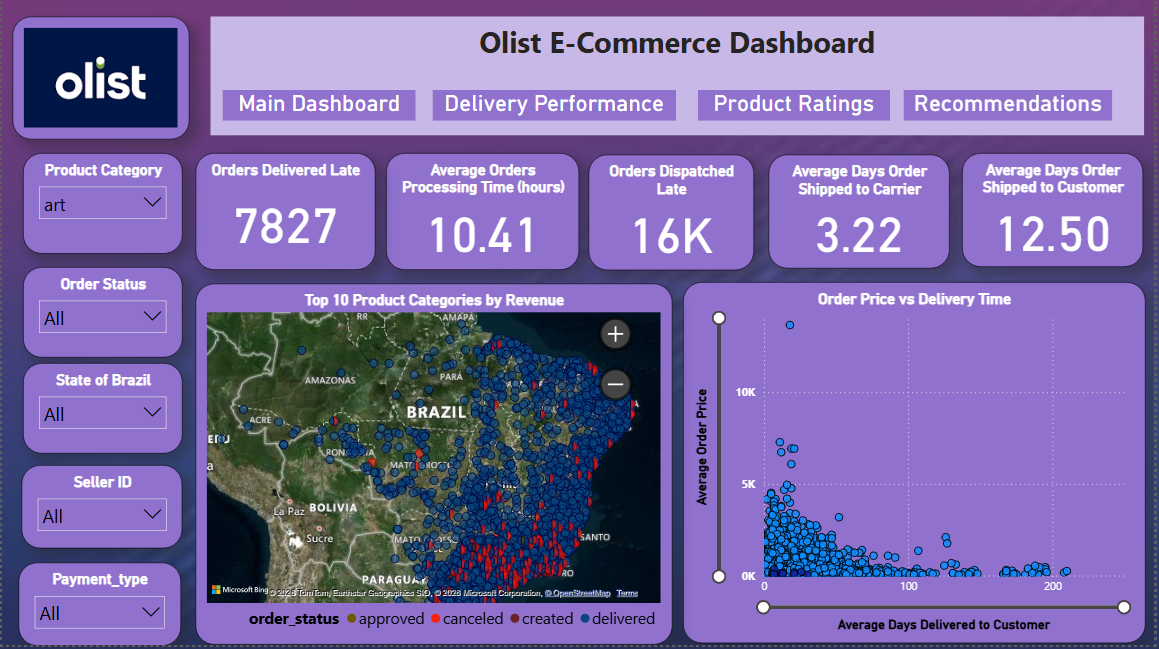

This screenshot's page, from the dashboard's own definition file:
{"tool":"powerbi","page":{"name":"page 2","canvas":[1280,720],"ordinal":1},"visuals":[{"type":"card","title":"Average Orders Processing Time  (hours)","fields":{"Values":["Avg(olist_orders.Processing_Time_Hours)"]},"box":[425.9,174,214.6,130.1],"z":0},{"type":"card","title":"Orders Delivered Late","fields":{"Values":["olist_orders.Late Order"]},"box":[214.6,174,200,130.1],"z":1000},{"type":"slicer","title":"Product Category","fields":{"Values":["product_category_name_translation.product_category_name_english"]},"box":[22.8,174,177.2,112.2],"z":2000},{"type":"slicer","title":"Order Status","fields":{"Values":["olist_orders.order_status"]},"box":[22.8,300.8,177.2,100.8],"z":3000},{"type":"slicer","title":"State of Brazil","fields":{"Values":["customer_olist.customer_state"]},"box":[22.8,406.4,177.2,100.8],"z":4000},{"type":"slicer","title":"Seller ID","fields":{"Values":["olist_sellers.seller_id"]},"box":[21.1,520.2,178.8,92.7],"z":5000},{"type":"slicer","title":"Payment_type","fields":{"Values":["olist_order_payments.payment_type"]},"box":[17.9,627.5,180.5,92.7],"z":6000},{"type":"card","title":"Orders Dispatched Late","fields":{"Values":["Sum(olist_orders.Order_Dispatched Late)"]},"box":[651.9,175.6,183.7,128.4],"z":7000},{"type":"card","title":"Average Days Order Shipped to Carrier","fields":{"Values":["olist_orders.Avg_Days_Shipping_Carrier"]},"box":[851.9,175.6,201.6,126.8],"z":8000},{"type":"scatterChart","title":"Order Price vs Delivery Time","fields":{"Category":["olist_orders.order_id"],"X":["Sum(olist_orders.Delivery_Days)"],"Y":["olist_orders.order_price"],"Series":["olist_products.product_category_name"]},"box":[756,317,513.7,401.6],"z":9000},{"type":"textbox","box":[230.9,21.1,1037.2,131.7],"z":10000},{"type":"image","box":[11.4,21.1,196.7,136.6],"z":11000},{"type":"map","title":"Top 10 Product Categories by Revenue","fields":{"Category":["customer_olist.customer_city"],"Series":["olist_orders.order_status"]},"box":[214.6,318.6,530,401.6],"z":12000},{"type":"card","title":"Average Days Order Shipped to Customer","fields":{"Values":["olist_orders.Avg_Days_Shipping_Customer"]},"box":[1066.5,174,201.6,126.8],"z":13000},{"type":"actionButton","title":"Main Dashboard","box":[245,103.4,214.7,41.4],"z":14000},{"type":"actionButton","title":"Delivery Performance","box":[478.8,103.4,270.4,41.4],"z":15000},{"type":"actionButton","title":"Product Ratings","box":[773,103.4,213.1,41.4],"z":16000},{"type":"actionButton","title":"Recommendations","box":[1002.1,103.4,232.2,41.4],"z":17000}]}

Visuals, with their boxes in screenshot pixels (x1, y1, x2, y2), scaled from the page's 1280x720 canvas onto the 1159x649 screenshot:
"Average Orders Processing Time  (hours)" card: 386:157:580:274
"Orders Delivered Late" card: 194:157:375:274
"Product Category" slicer: 21:157:181:258
"Order Status" slicer: 21:271:181:362
"State of Brazil" slicer: 21:366:181:457
"Seller ID" slicer: 19:469:181:552
"Payment_type" slicer: 16:566:180:648
"Orders Dispatched Late" card: 590:158:757:274
"Average Days Order Shipped to Carrier" card: 771:158:954:273
"Order Price vs Delivery Time" scatterChart: 685:286:1150:648
textbox: 209:19:1148:138
image: 10:19:188:142
"Top 10 Product Categories by Revenue" map: 194:287:674:648
"Average Days Order Shipped to Customer" card: 966:157:1148:271
"Main Dashboard" actionButton: 222:93:416:131
"Delivery Performance" actionButton: 434:93:678:131
"Product Ratings" actionButton: 700:93:893:131
"Recommendations" actionButton: 907:93:1118:131
